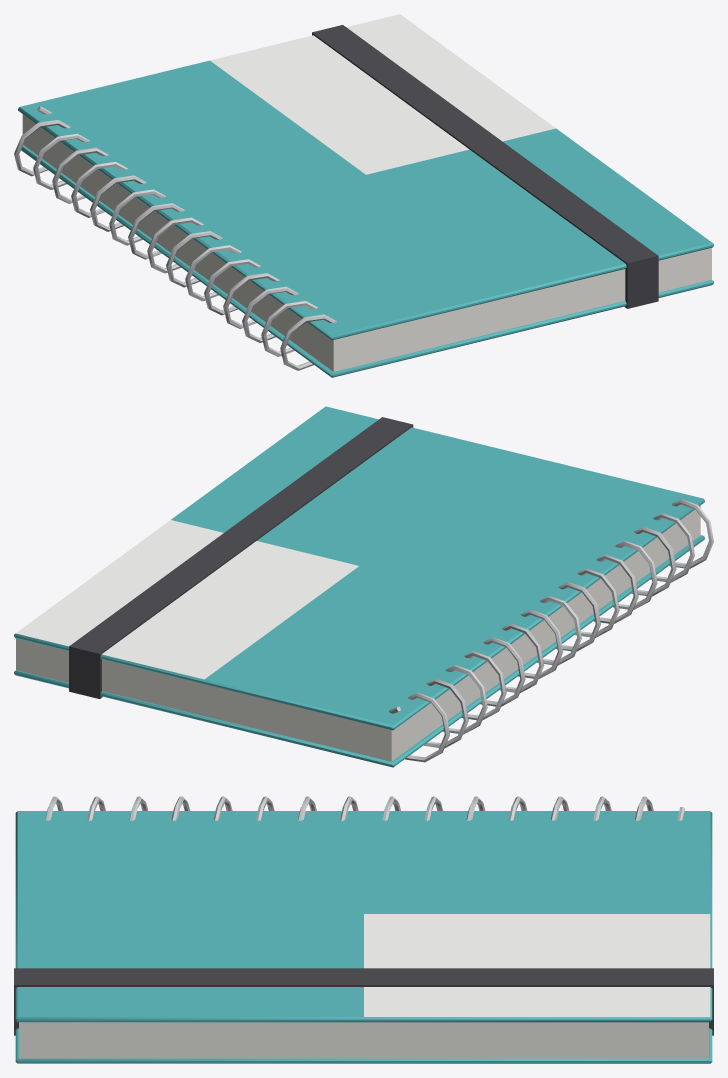
Rendered from paper_notebook_closed.fbx.
3 views of the same model, one above another, from view 1: azimuth 30°, elevation 25°; view 2: azimuth 150°, elevation 25°; view 3: azimuth 270°, elevation 25° (orthographic). The views are drawn at different scales.
Visible parts, largest first — view 1: paper_notebook_closed; view 2: paper_notebook_closed; view 3: paper_notebook_closed.
Boxes of the visible parts, <box> form: paper_notebook_closed: <box>14,14,713,377</box>; paper_notebook_closed: <box>14,406,713,767</box>; paper_notebook_closed: <box>14,796,713,1063</box>.
Bounding box in the file's own units: 0.1594 × 0.0217 × 0.211.
